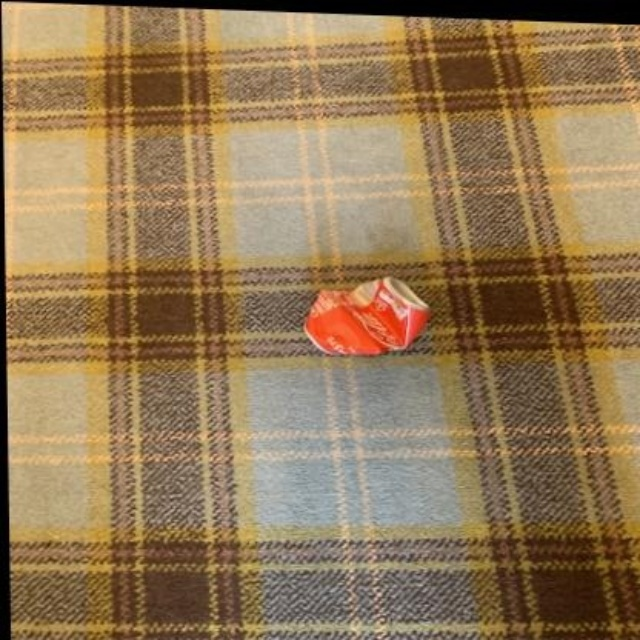trash: (305, 277, 429, 354)
